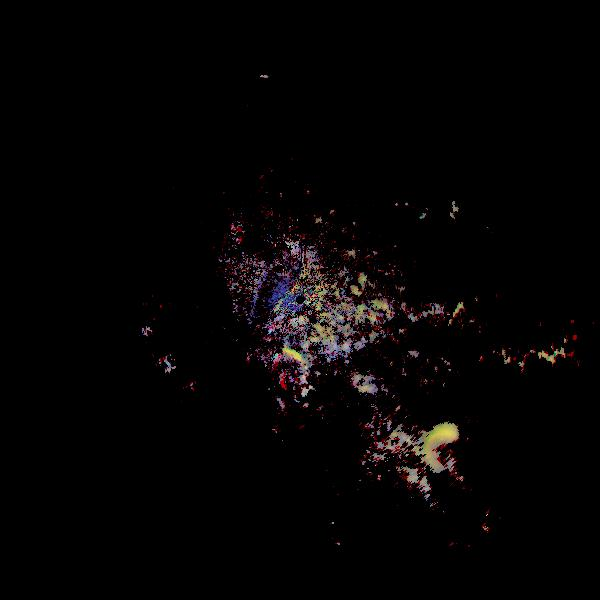roost: (253, 341, 322, 410), (421, 419, 484, 482)
